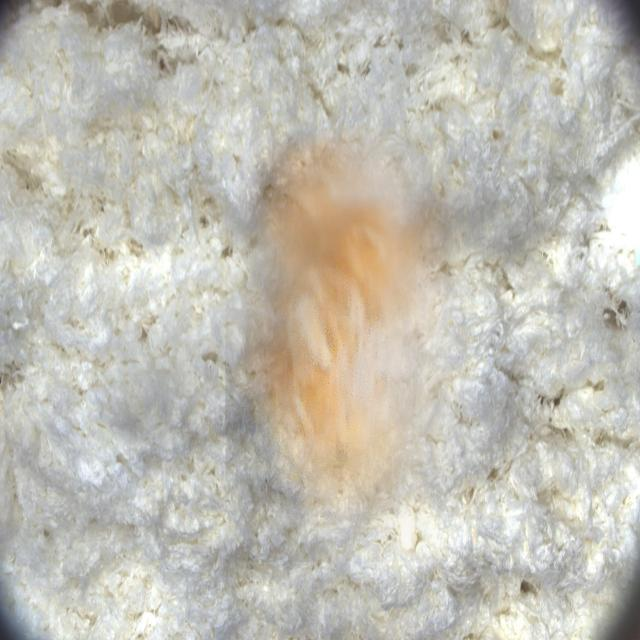dust: (226, 125, 470, 562)
